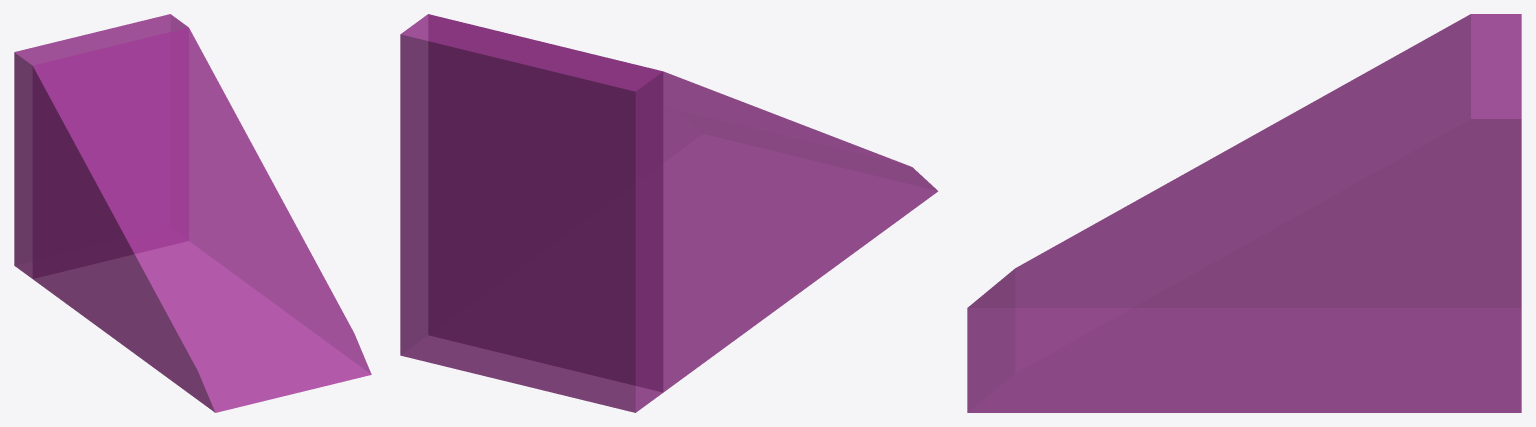
File: SM_Env_Stone_Stairs_02_Collision.fbx
3 renders of one model, left to right at view 1: azimuth 30°, elevation 25°; view 2: azimuth 150°, elevation 25°; view 3: azimuth 270°, elevation 25°, orthographic. The views are drawn at different scales.
Visible parts, largest first — view 1: SM_Env_Stone_Stairs_02_Collision; view 2: SM_Env_Stone_Stairs_02_Collision; view 3: SM_Env_Stone_Stairs_02_Collision.
Boxes of the visible parts, <box> form: SM_Env_Stone_Stairs_02_Collision: <box>14,14,371,412</box>; SM_Env_Stone_Stairs_02_Collision: <box>400,14,938,412</box>; SM_Env_Stone_Stairs_02_Collision: <box>967,14,1521,412</box>.
Bounding box in the file's own units: 244 × 318 × 543.
